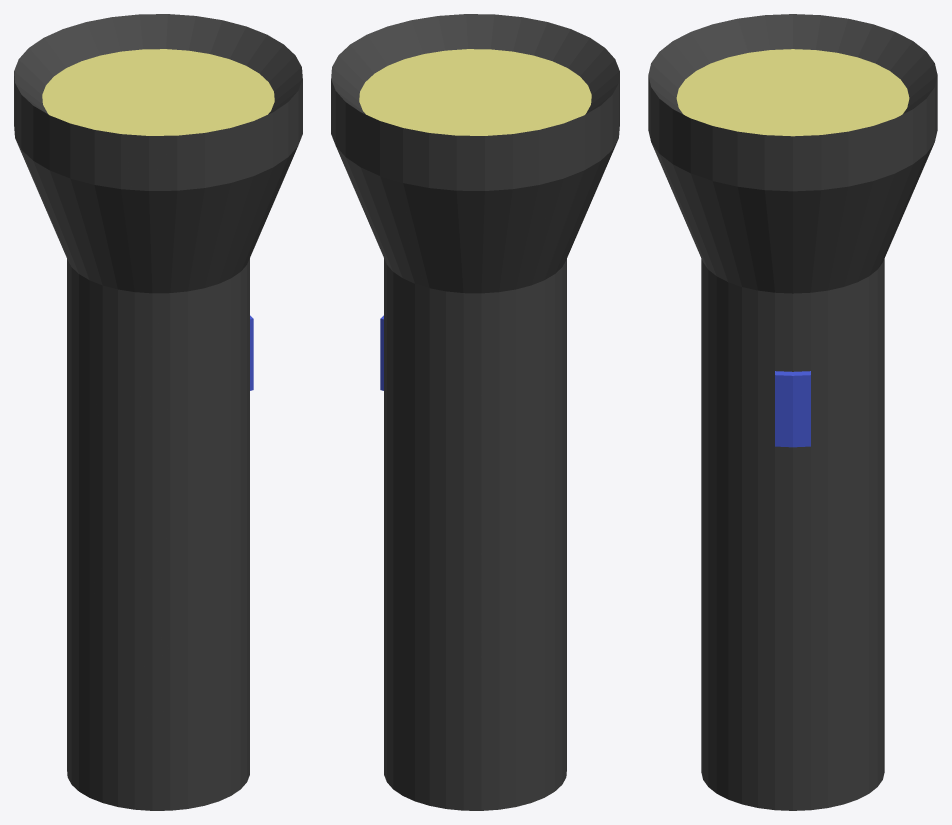
The model's file is flashlightModel.fbx.
3 renders of one model, left to right at view 1: azimuth 30°, elevation 25°; view 2: azimuth 150°, elevation 25°; view 3: azimuth 270°, elevation 25°, orthographic.
Parts seen in each view (by area): view 1: Cylinder; view 2: Cylinder; view 3: Cylinder.
Boxes of the visible parts, <box> form: Cylinder: <box>14,14,302,810</box>; Cylinder: <box>331,14,619,810</box>; Cylinder: <box>648,14,937,810</box>.
Bounding box in the file's own units: 141 × 374 × 141.
